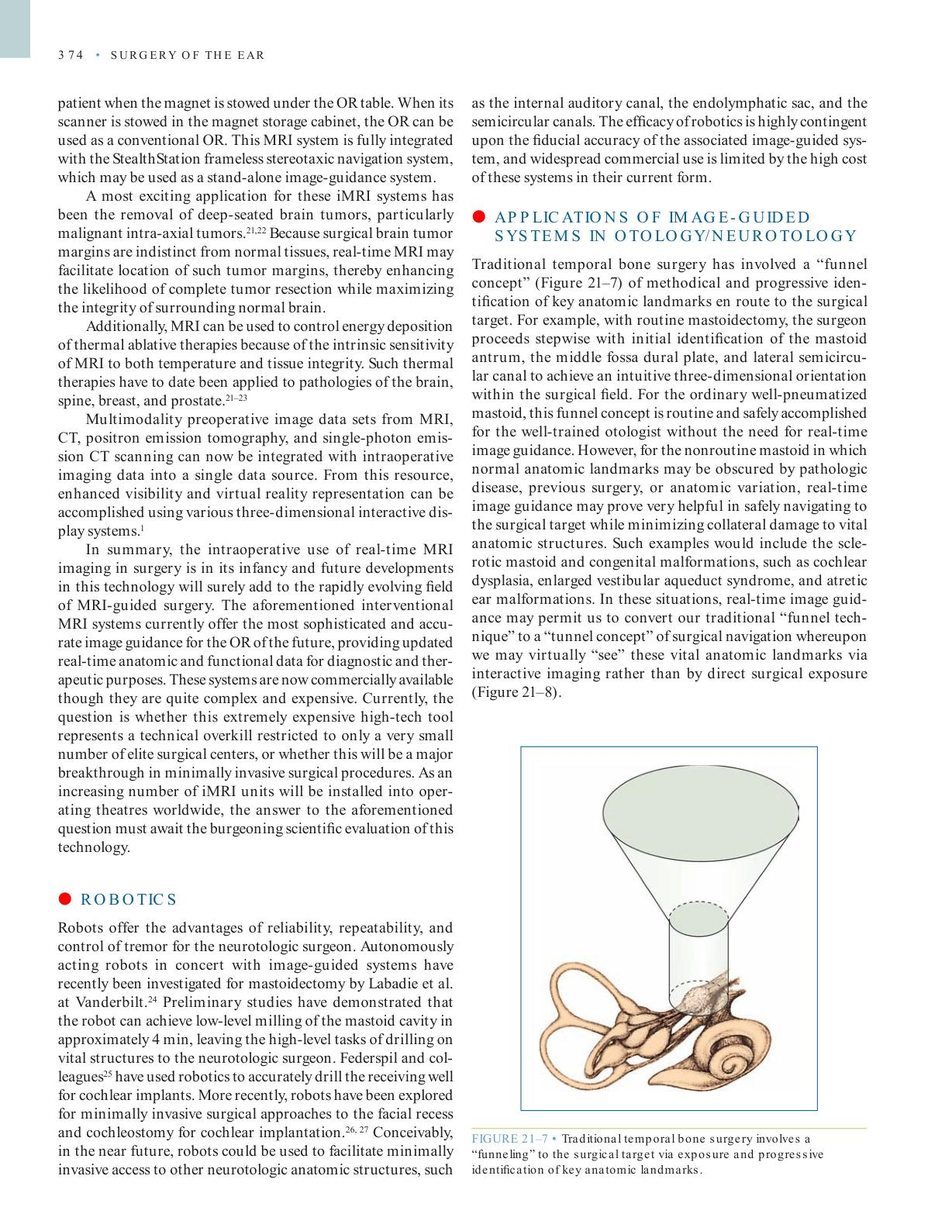caption: (470, 1130, 825, 1179)
header: (109, 49, 266, 60)
image: (526, 751, 813, 1105)
section-heading: (491, 205, 859, 246), (79, 890, 179, 908)
text: (54, 93, 456, 858), (469, 256, 870, 702), (54, 919, 457, 1180), (469, 94, 870, 188)
